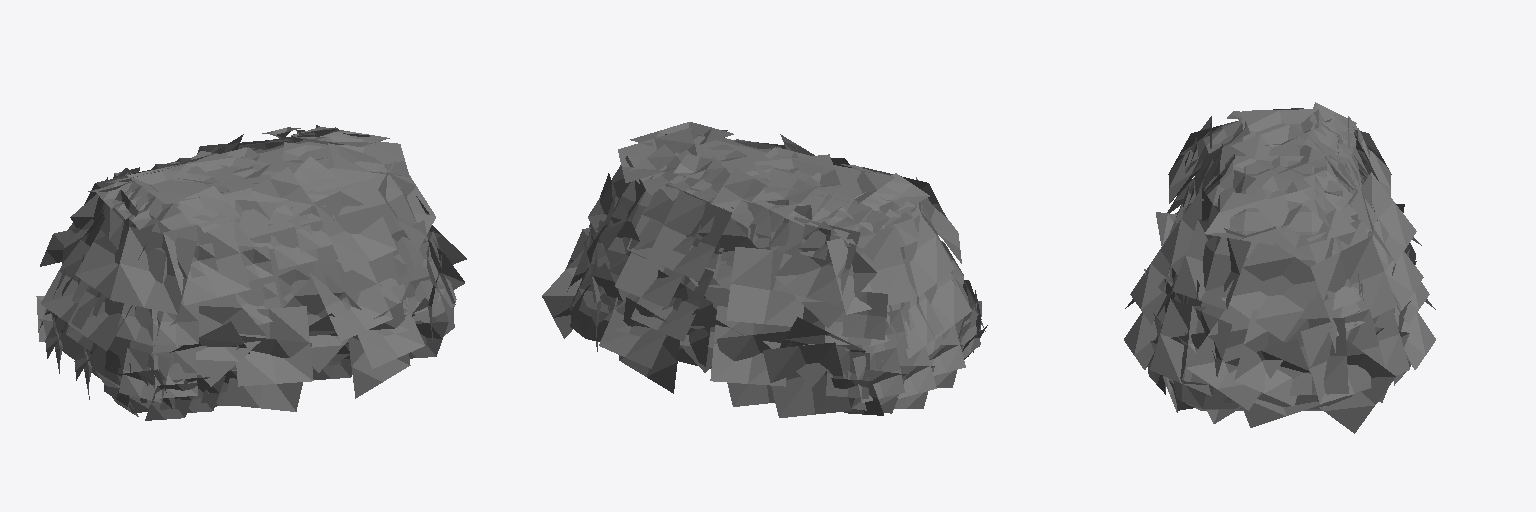
Rendered from bush.obj.
3 views of the same model, side by side, from view 1: azimuth 30°, elevation 25°; view 2: azimuth 150°, elevation 25°; view 3: azimuth 270°, elevation 25° (orthographic).
Visible parts, largest first — view 1: Bush3_Mesh; view 2: Bush3_Mesh; view 3: Bush3_Mesh.
Part boxes in pixels (x1,y1,x2,y2): Bush3_Mesh: (36, 125, 466, 420); Bush3_Mesh: (542, 122, 987, 417); Bush3_Mesh: (1124, 102, 1435, 433).
Size of the model in its own units: 0.0183 by 0.0095 by 0.0131.